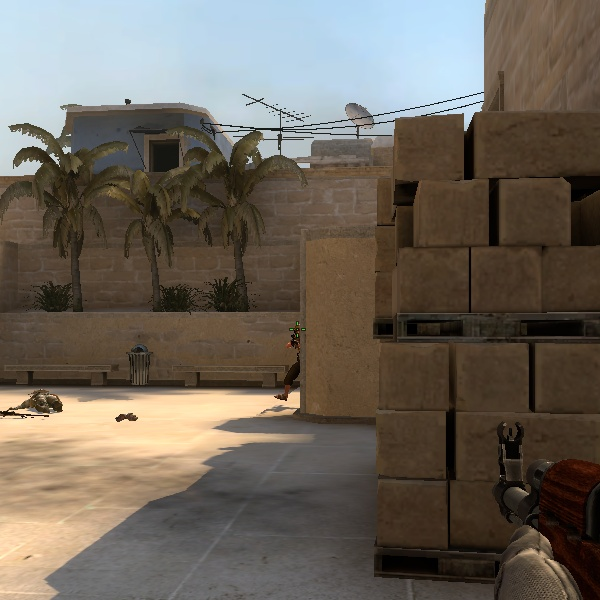t_body: (275, 323, 306, 404)
